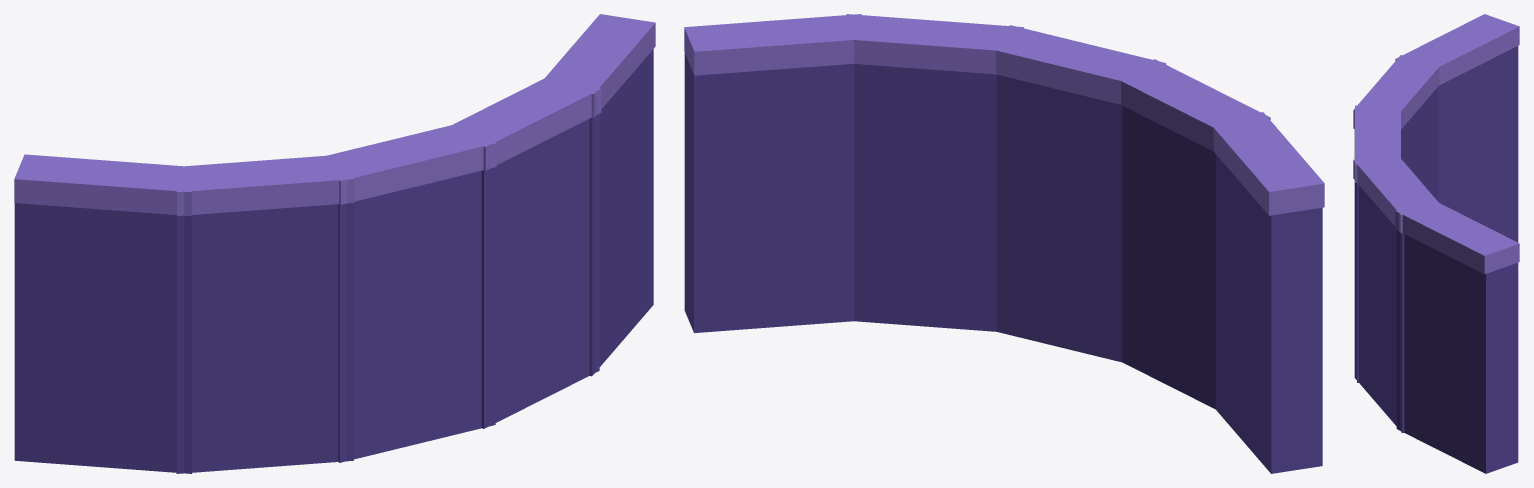
Rendered from monsoon_barrier.glb.
The picture shows the model from 3 angles, left to right: view 1: azimuth 30°, elevation 25°; view 2: azimuth 150°, elevation 25°; view 3: azimuth 270°, elevation 25°; orthographic projection. The views are drawn at different scales.
Visible parts, largest first — view 1: model; view 2: model; view 3: model.
Boxes of the visible parts, bbox=[...] form: model: bbox=[14, 14, 655, 473]; model: bbox=[684, 14, 1324, 473]; model: bbox=[1353, 14, 1519, 473].
Size of the model in its own units: 3.37 by 1.42 by 0.9813.
